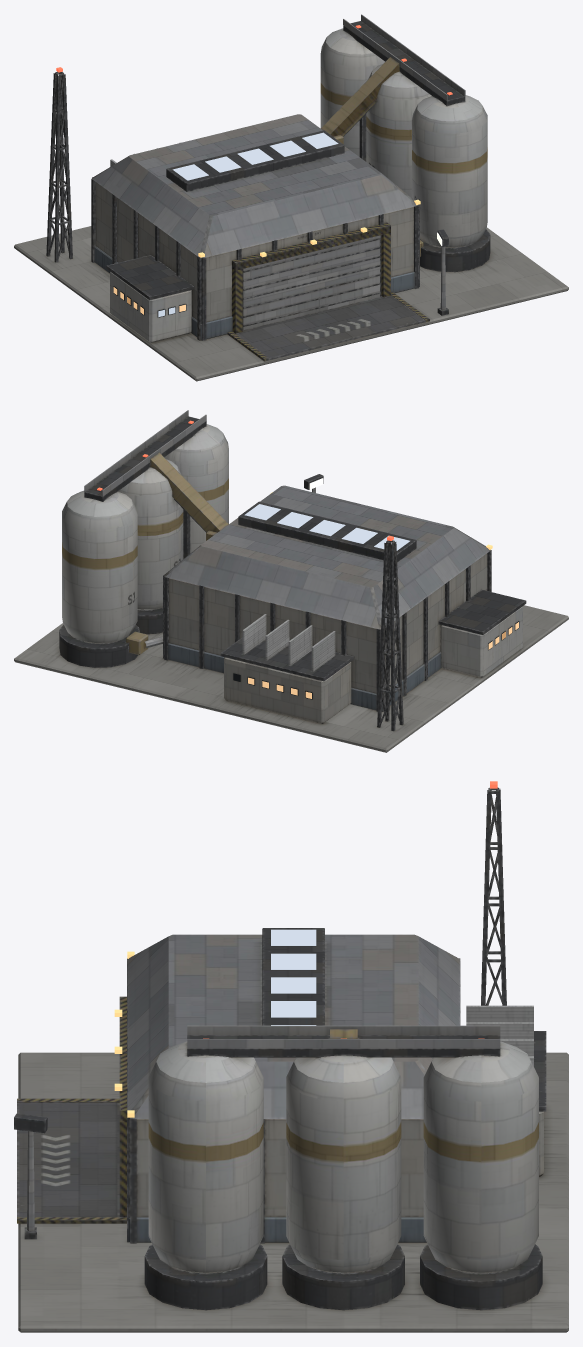
The model's file is harvester_bay.glb.
3 renders of one model, top to bottom at view 1: azimuth 30°, elevation 25°; view 2: azimuth 150°, elevation 25°; view 3: azimuth 270°, elevation 25°, orthographic. The views are drawn at different scales.
Parts seen in each view (by area): view 1: harvester_bay_hull, harvester_bay_lights; view 2: harvester_bay_hull, harvester_bay_lights; view 3: harvester_bay_hull, harvester_bay_lights.
Part boxes in pixels (x1,y1,x2,y2): harvester_bay_hull: (14,14,568,381); harvester_bay_lights: (56,25,452,317); harvester_bay_hull: (14,410,568,752); harvester_bay_lights: (97,420,519,699); harvester_bay_hull: (14,787,568,1332); harvester_bay_lights: (114,781,497,1117).
Bounding box in the file's own units: 52.2 × 25.68 × 44.35.
8 materials, 1 textured.
